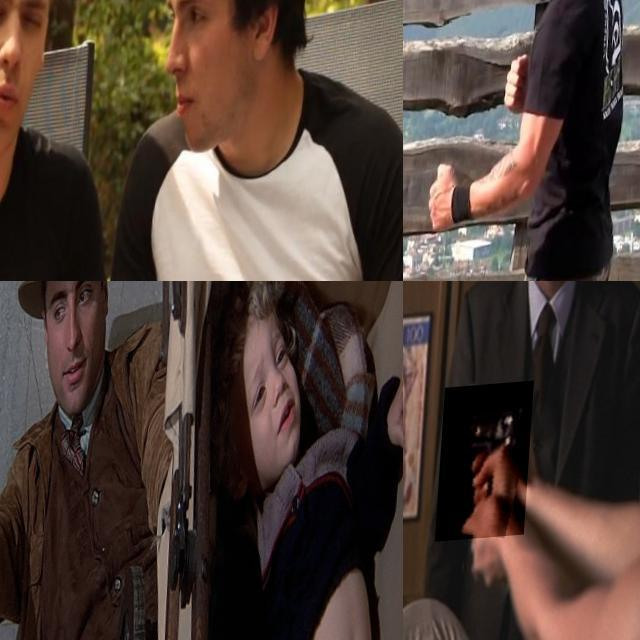-: (403, 181, 450, 261)
gun-knife-thesis - v11 Yolov5 augmented: (442, 387, 538, 547), (0, 536, 51, 640)
